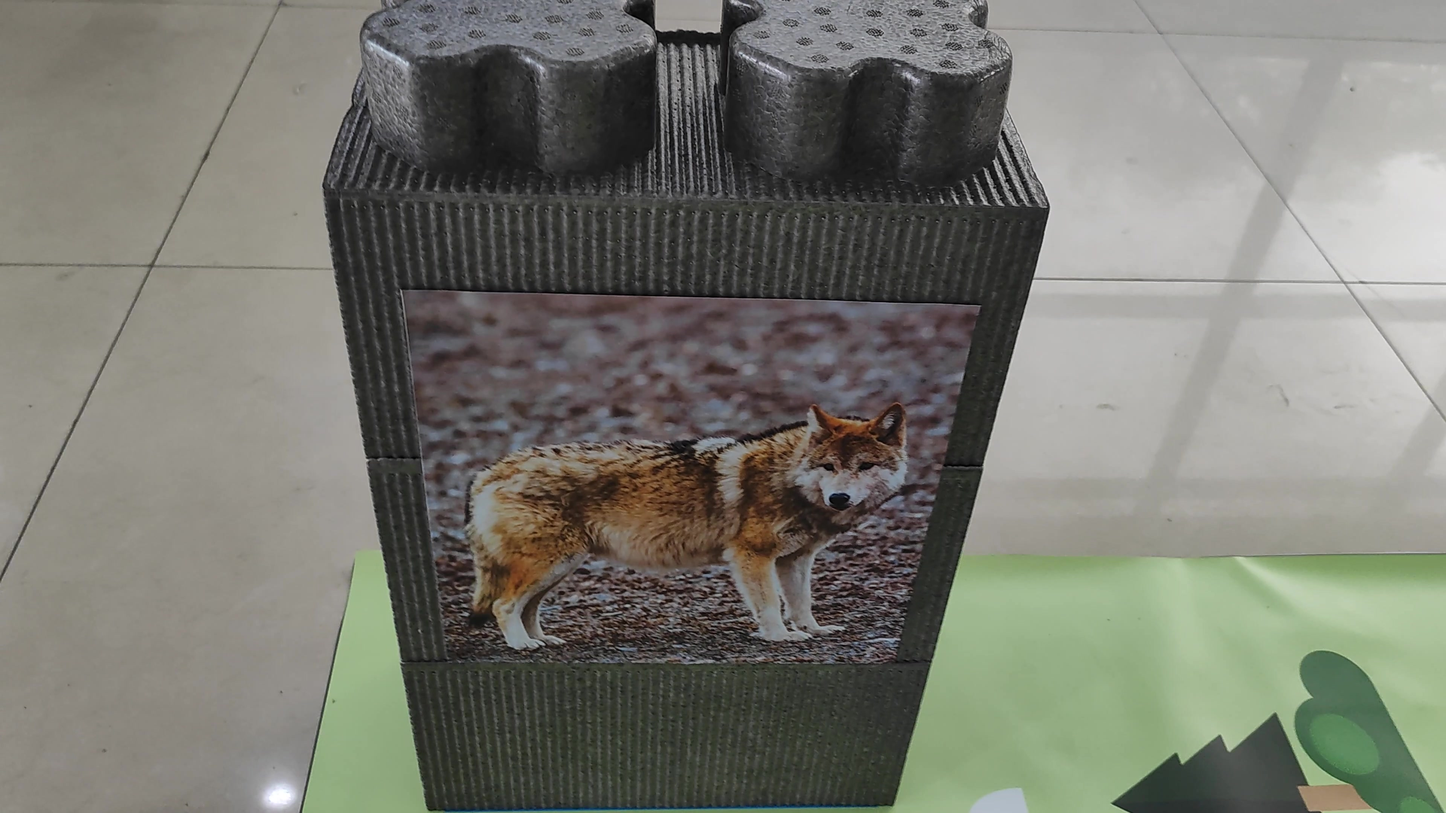wolf: (436, 353, 924, 722)
